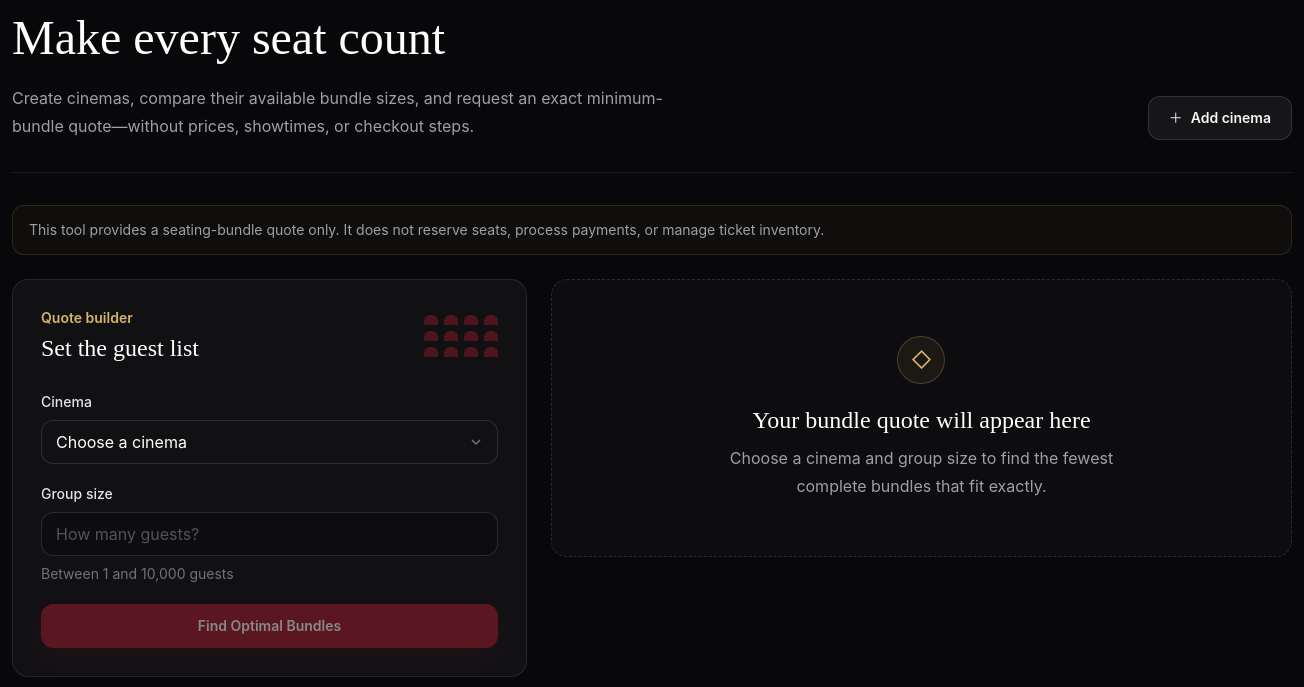
BookingPage › shows the impossible result for Cinema D and group 7
The width and height of the screenshot is (1304, 687).
Select "Cinema D" in the dropdown labelled "Cinema" at (270, 442), box [41,420,498,464]
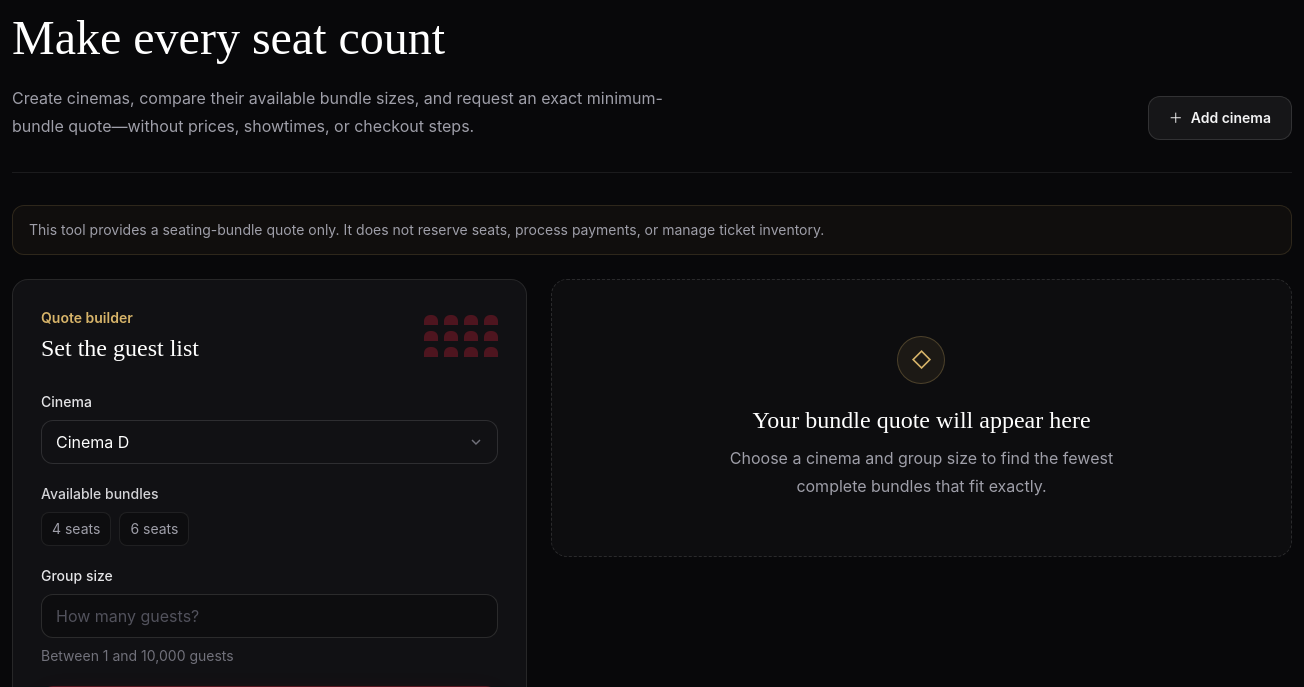
Type "7" into the number field labelled "Group size" at (270, 616), box [41,594,498,638]
(page scrolled)
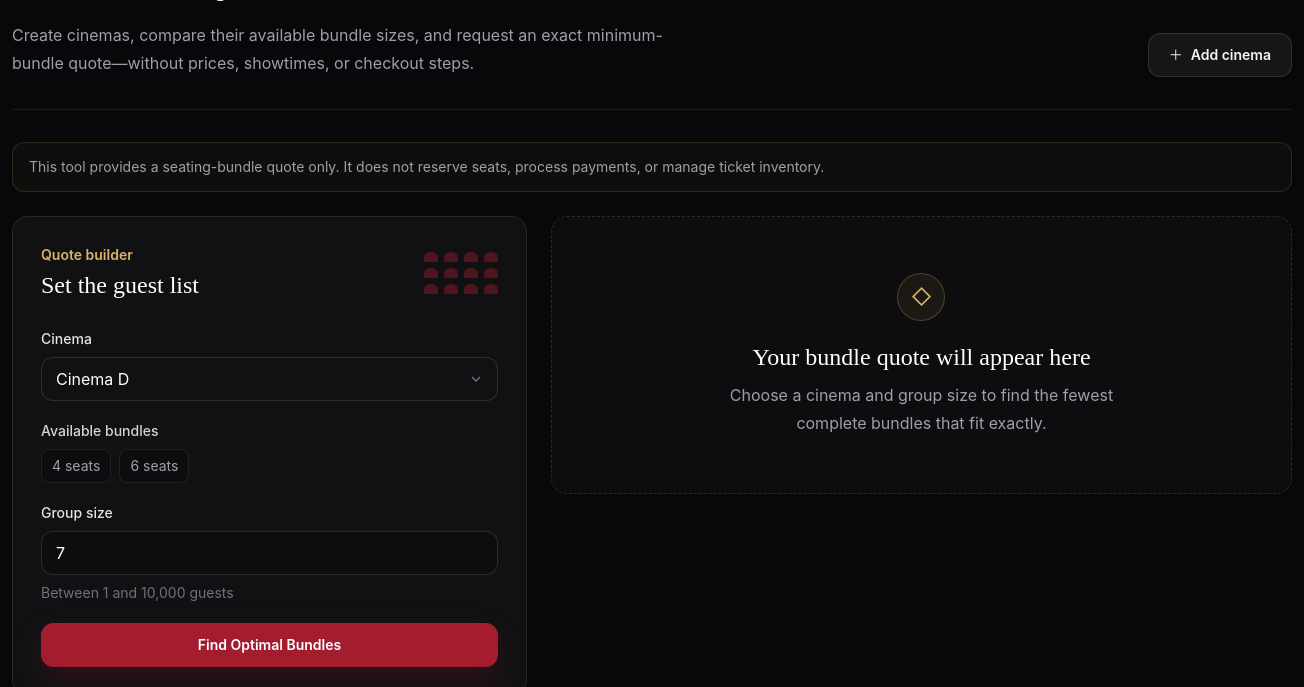
Click the button "Find Optimal Bundles" at (270, 645), box [41,623,498,667]
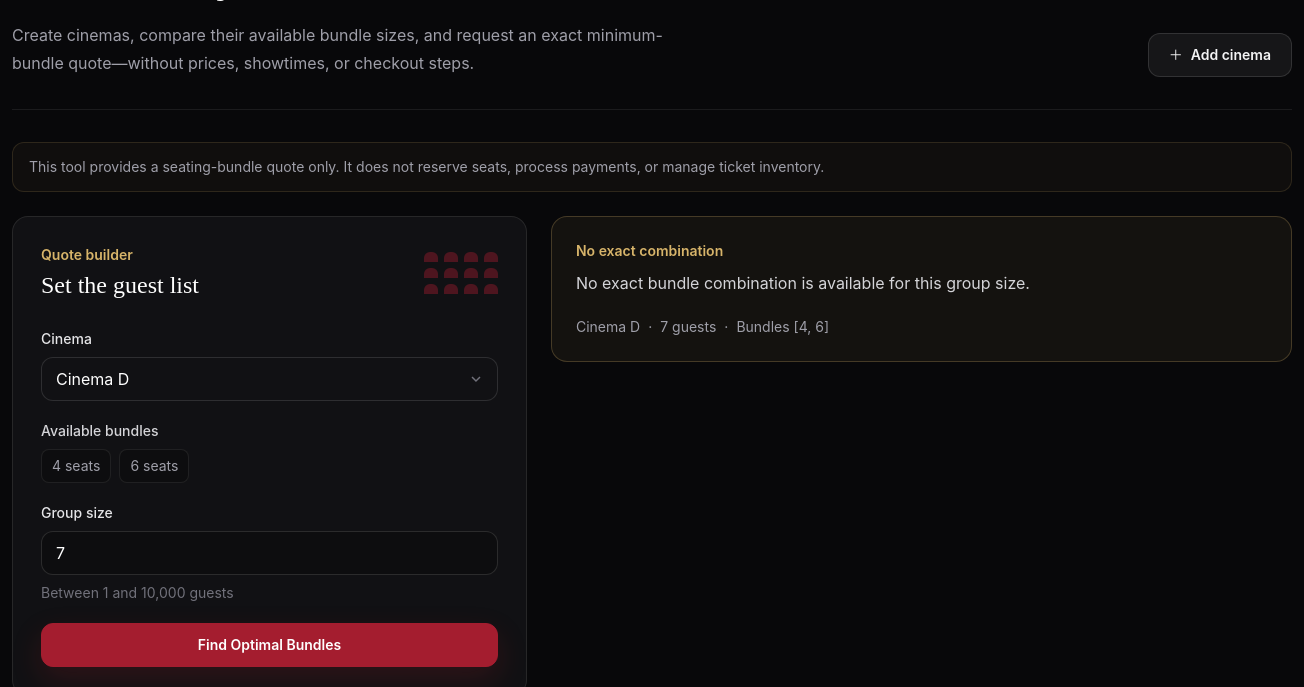
Expected: the text "No exact bundle combination is available for this group size." is shown, [576,273,1030,293]
